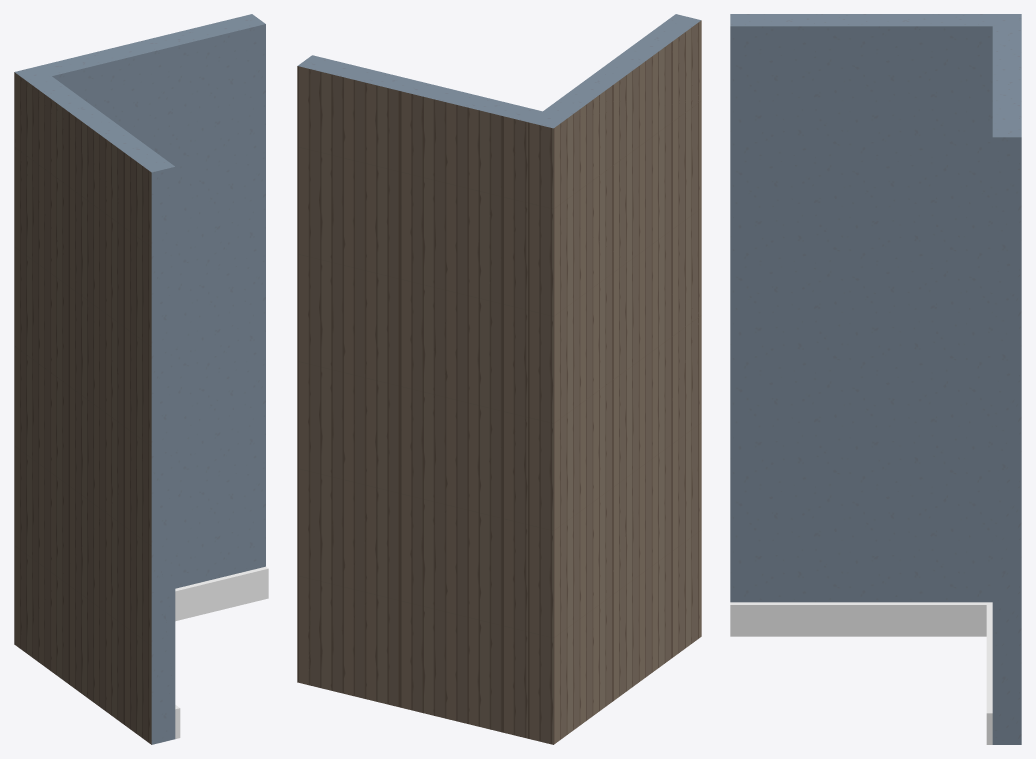
Rendered from SM_Bld_House_Wall_Corner_02.obj.
The picture shows the model from 3 angles, left to right: view 1: azimuth 30°, elevation 25°; view 2: azimuth 150°, elevation 25°; view 3: azimuth 270°, elevation 25°; orthographic projection. The views are drawn at different scales.
Parts seen in each view (by area): view 1: SM_Bld_House_Wall_Corner_02_mi_HouseExteriorWalls_01, SM_Bld_House_Wall_Corner_02_mi_HouseInteriorWalls_02, SM_Bld_House_Wall_Corner_02_mi_WhiteTrim; view 2: SM_Bld_House_Wall_Corner_02_mi_HouseExteriorWalls_01, SM_Bld_House_Wall_Corner_02_mi_HouseInteriorWalls_02; view 3: SM_Bld_House_Wall_Corner_02_mi_HouseInteriorWalls_02, SM_Bld_House_Wall_Corner_02_mi_WhiteTrim.
Part boxes in pixels (x1,y1,x2,y2): SM_Bld_House_Wall_Corner_02_mi_HouseExteriorWalls_01: [14, 72, 151, 744]; SM_Bld_House_Wall_Corner_02_mi_HouseInteriorWalls_02: [15, 14, 265, 744]; SM_Bld_House_Wall_Corner_02_mi_WhiteTrim: [175, 566, 268, 738]; SM_Bld_House_Wall_Corner_02_mi_HouseExteriorWalls_01: [297, 20, 701, 744]; SM_Bld_House_Wall_Corner_02_mi_HouseInteriorWalls_02: [298, 14, 700, 128]; SM_Bld_House_Wall_Corner_02_mi_HouseInteriorWalls_02: [730, 14, 1021, 744]; SM_Bld_House_Wall_Corner_02_mi_WhiteTrim: [730, 602, 992, 744].
Bounding box in the file's own units: 2.5 × 5.75 × 2.5.
Materials: 3 (2 with a texture image).
